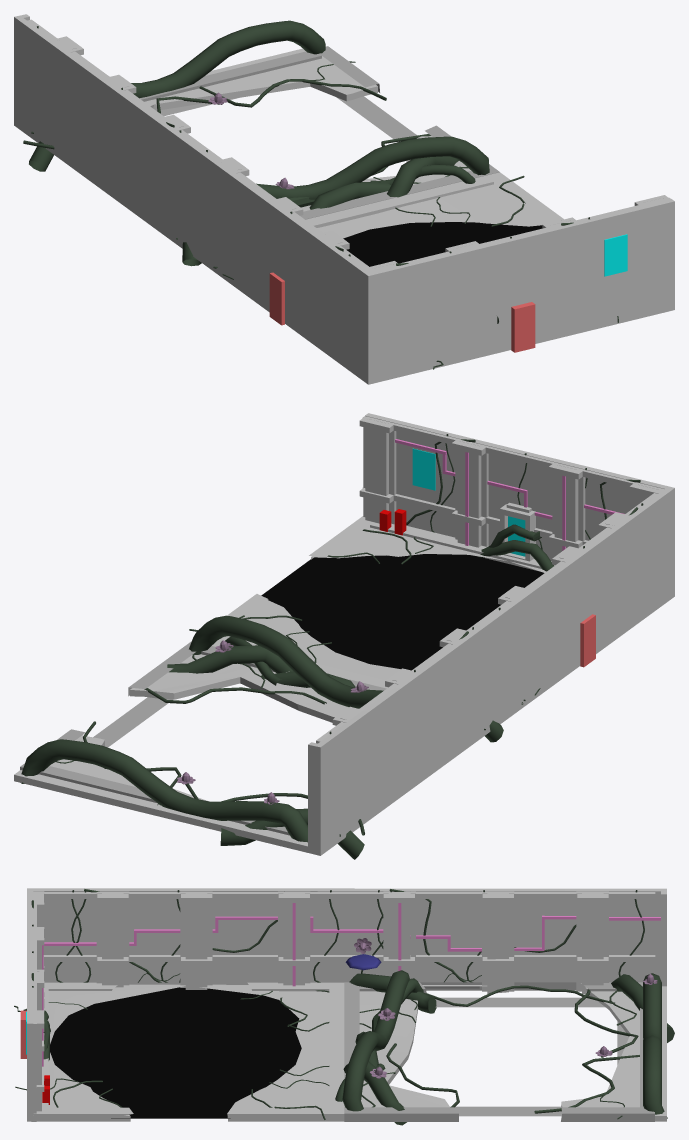
Rendered from salle_3_present.fbx.
The picture shows the model from 3 angles, top to bottom: view 1: azimuth 30°, elevation 25°; view 2: azimuth 150°, elevation 25°; view 3: azimuth 270°, elevation 25°; orthographic projection. The views are drawn at different scales.
Visible parts, largest first — view 1: salle_passé3, damier2, fleur28, sweep88, sweep93, porte_entree1, sweep86, pCube277, sweep64, porte4, porte_salle03, sweep67 (+2 smaller); view 2: salle_passé3, damier2, sweep93, sweep88, fleur28, group21_pCube148, group21_pCube145, group21_pCube146, sweep64, pCube310, sweep59, pCube277 (+5 smaller); view 3: salle_passé3, damier2, fleur28, pCube277, group21_pCube144, sweep88, pCube282, group21_pCube140, group21_pCube141, group21_pCube149, sweep93, group21_pCube143 (+11 smaller).
Boxes of the visible parts, bbox=[...] form: salle_passé3: bbox=[14, 14, 674, 384]; damier2: bbox=[305, 172, 563, 266]; fleur28: bbox=[139, 46, 499, 219]; sweep88: bbox=[256, 136, 489, 199]; sweep93: bbox=[131, 20, 325, 98]; porte_entree1: bbox=[511, 302, 535, 352]; sweep86: bbox=[309, 182, 390, 209]; pCube277: bbox=[27, 19, 368, 267]; sweep64: bbox=[387, 156, 458, 197]; porte4: bbox=[604, 234, 627, 276]; porte_salle03: bbox=[269, 272, 284, 325]; sweep67: bbox=[199, 79, 386, 107]; salle_passé3: bbox=[14, 413, 674, 855]; damier2: bbox=[212, 516, 554, 688]; sweep93: bbox=[21, 739, 307, 842]; sweep88: bbox=[189, 615, 383, 708]; fleur28: bbox=[20, 641, 386, 835]; group21_pCube148: bbox=[363, 419, 396, 524]; group21_pCube145: bbox=[455, 441, 488, 547]; group21_pCube146: bbox=[552, 465, 585, 565]; sweep64: bbox=[167, 645, 292, 673]; pCube310: bbox=[363, 416, 661, 489]; sweep59: bbox=[220, 808, 364, 859]; pCube277: bbox=[316, 493, 657, 743]; salle_passé3: bbox=[27, 888, 666, 1121]; damier2: bbox=[33, 982, 344, 1118]; fleur28: bbox=[344, 982, 654, 1121]; pCube277: bbox=[44, 892, 655, 898]; group21_pCube144: bbox=[482, 891, 514, 993]; sweep88: bbox=[342, 970, 409, 1111]; pCube282: bbox=[44, 955, 655, 961]; group21_pCube140: bbox=[180, 891, 212, 989]; group21_pCube141: bbox=[96, 891, 129, 987]; group21_pCube149: bbox=[576, 891, 608, 993]; sweep93: bbox=[643, 973, 667, 1118]; group21_pCube143: bbox=[278, 891, 310, 985].
Size of the model in its own units: 16.3 by 6.21 by 30.52.
